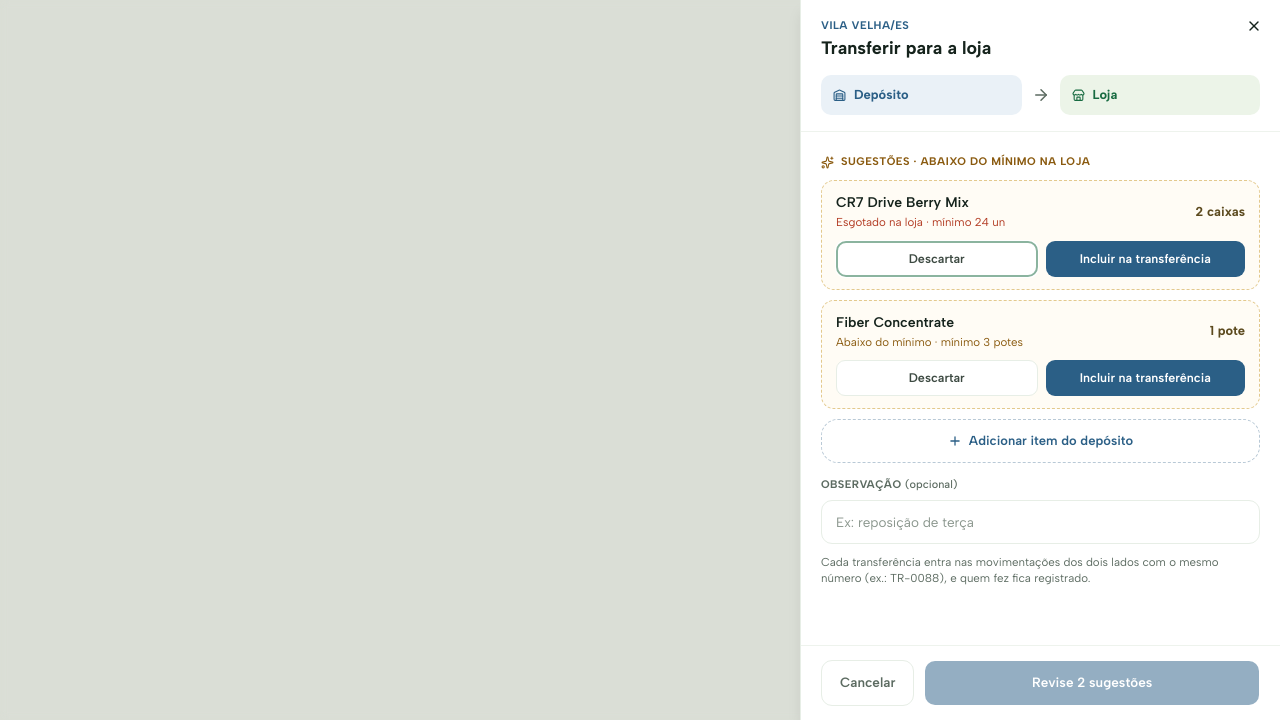
TransferirDialog › including and discarding suggestions unlocks the transfer, with antes → depois on both sides
The image size is (1280, 720).
Click the button "Incluir na transferência" below "Esgotado na loja · mínimo 24 un". click: x=1145, y=258
box: [1046,240,1245,276]
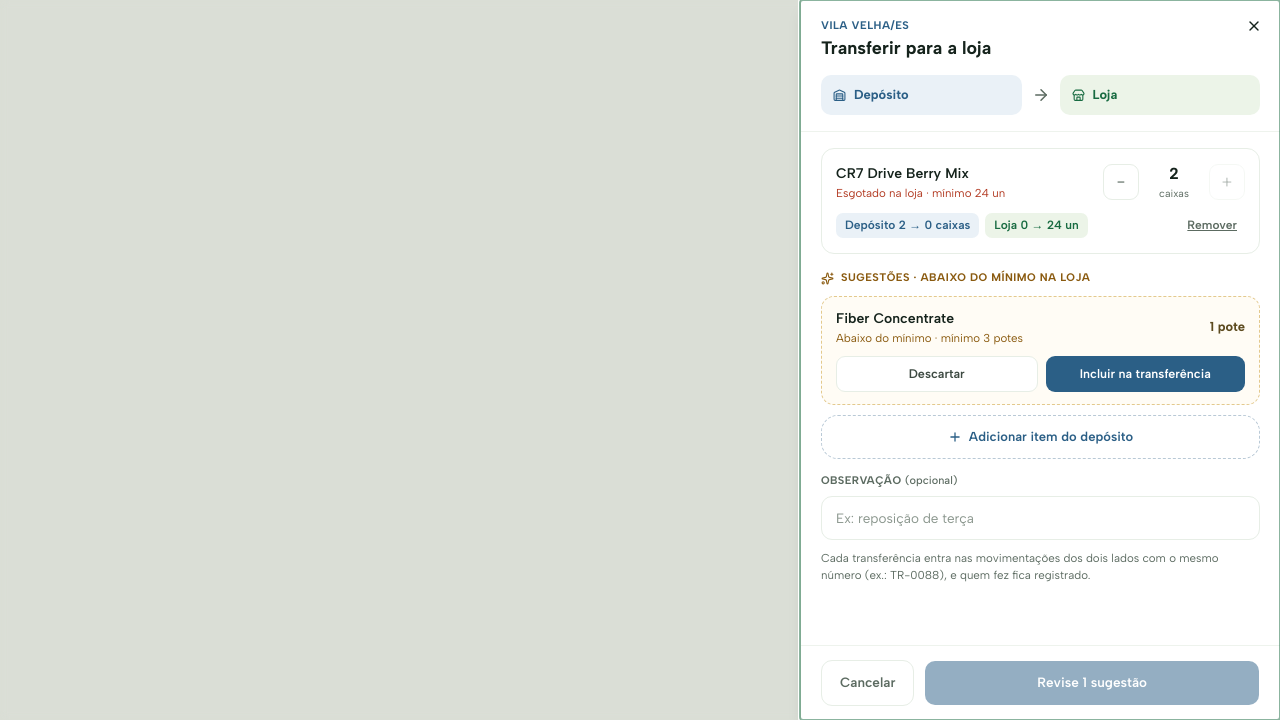
Expected: the button "Revise 1 sugestão" is disabled, [924,660,1260,706]
Now the text "Depósito 2 → 0 caixas" is shown, box [836,213,979,238]
Now the text "Loja 0 → 24 un" is shown, box [985,213,1088,238]
Click the button "Descartar". click: x=937, y=374
box: [836,356,1038,392]
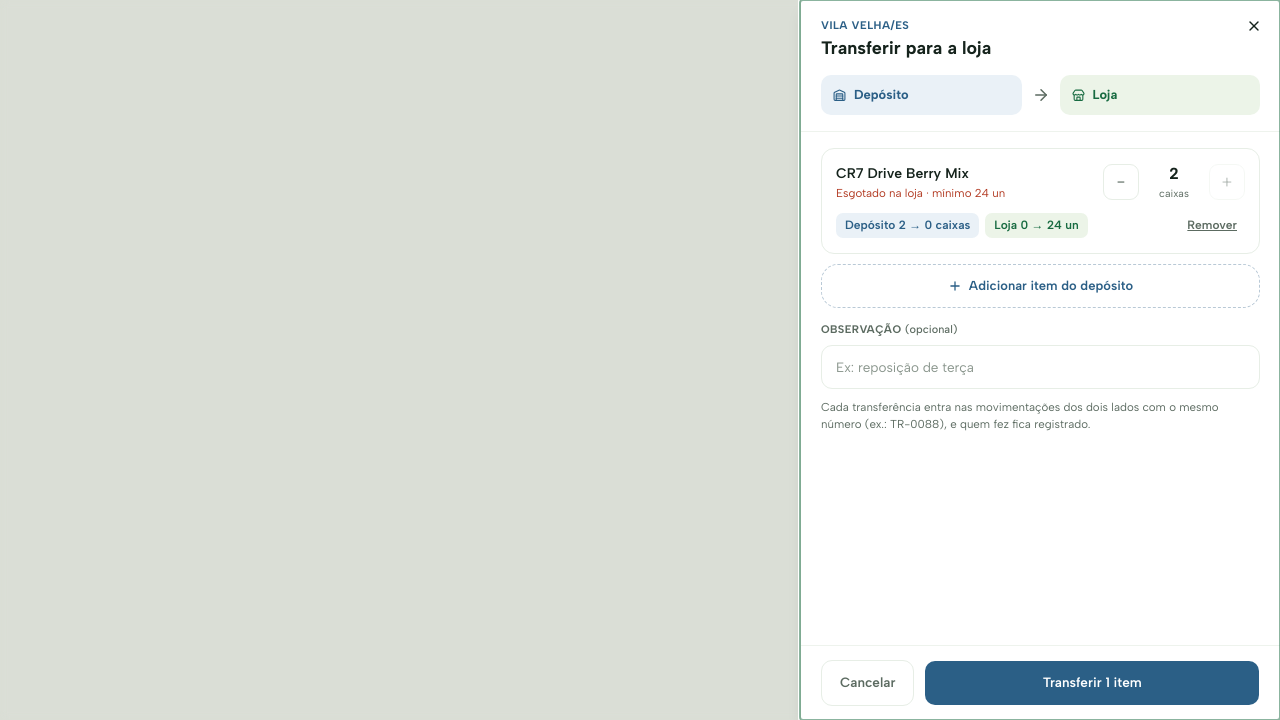
Now the text "Sugestões" is gone
Now the button "Transferir 1 item" is enabled, box [924,660,1260,706]
